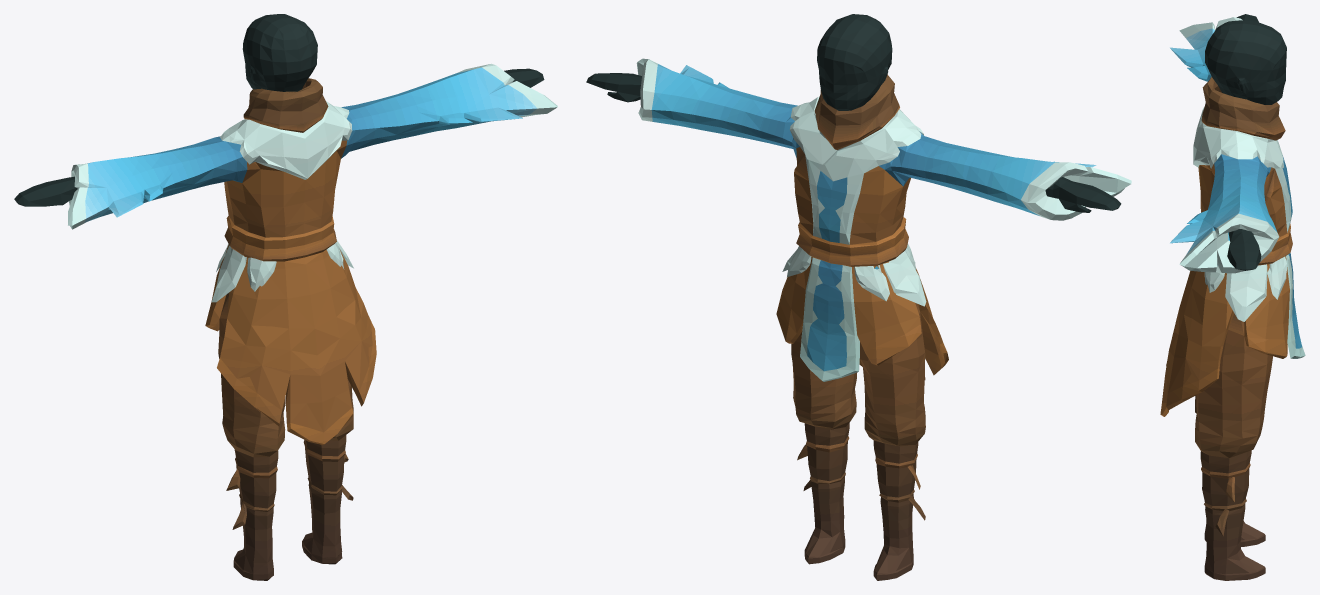
Rendered from CharSkyNPC_Body_AP12GradientTunic_01.glb.
3 renders of one model, left to right at view 1: azimuth 30°, elevation 25°; view 2: azimuth 150°, elevation 25°; view 3: azimuth 270°, elevation 25°, orthographic. The views are drawn at different scales.
Visible parts, largest first — view 1: CharSkyNPC_Body_AP12GradientTunic_01; view 2: CharSkyNPC_Body_AP12GradientTunic_01; view 3: CharSkyNPC_Body_AP12GradientTunic_01.
Boxes of the visible parts, x1,y1,x2,y2 form: CharSkyNPC_Body_AP12GradientTunic_01: (14,14,557,580); CharSkyNPC_Body_AP12GradientTunic_01: (586,14,1131,580); CharSkyNPC_Body_AP12GradientTunic_01: (1160,14,1305,580).
Size of the model in its own units: 14.33 by 14.08 by 3.47.
1 material, 1 textured.
